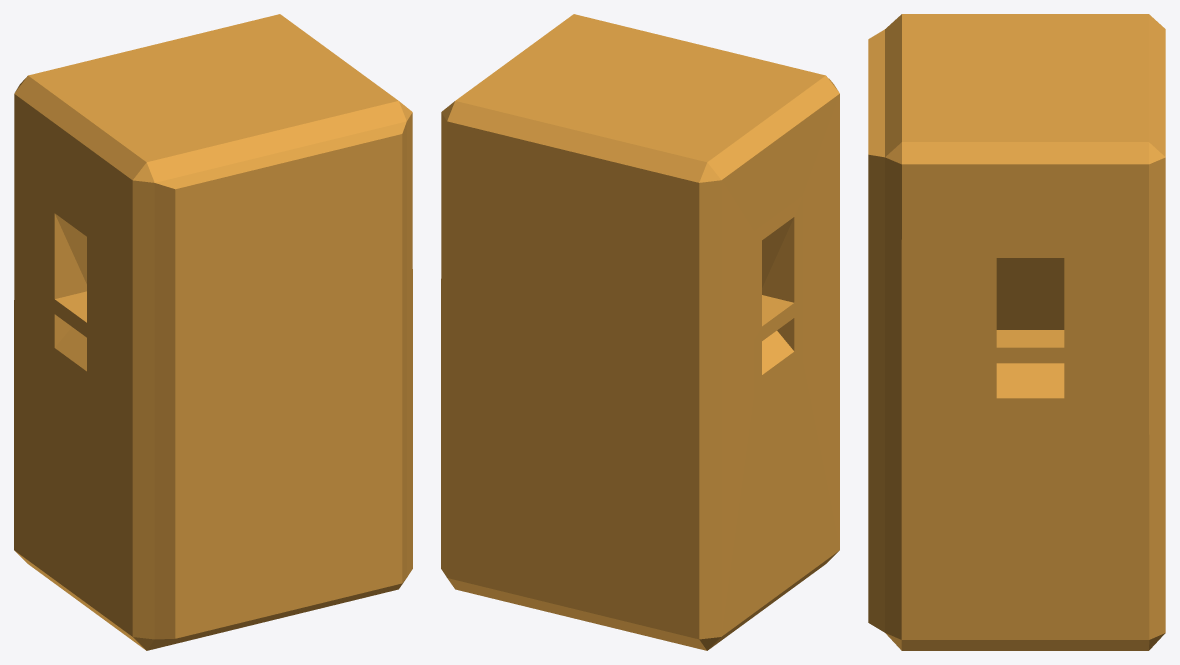
Rendered from music-speaker-tower.glb.
The picture shows the model from 3 angles, left to right: view 1: azimuth 30°, elevation 25°; view 2: azimuth 150°, elevation 25°; view 3: azimuth 270°, elevation 25°; orthographic projection. The views are drawn at different scales.
Visible parts, largest first — view 1: speaker-tower; view 2: speaker-tower; view 3: speaker-tower.
Part boxes in pixels (x1,y1,x2,y2): speaker-tower: (14,14,412,650); speaker-tower: (441,14,839,650); speaker-tower: (868,14,1165,650).
Bounding box in the file's own units: 0.5999 × 1 × 0.53.
